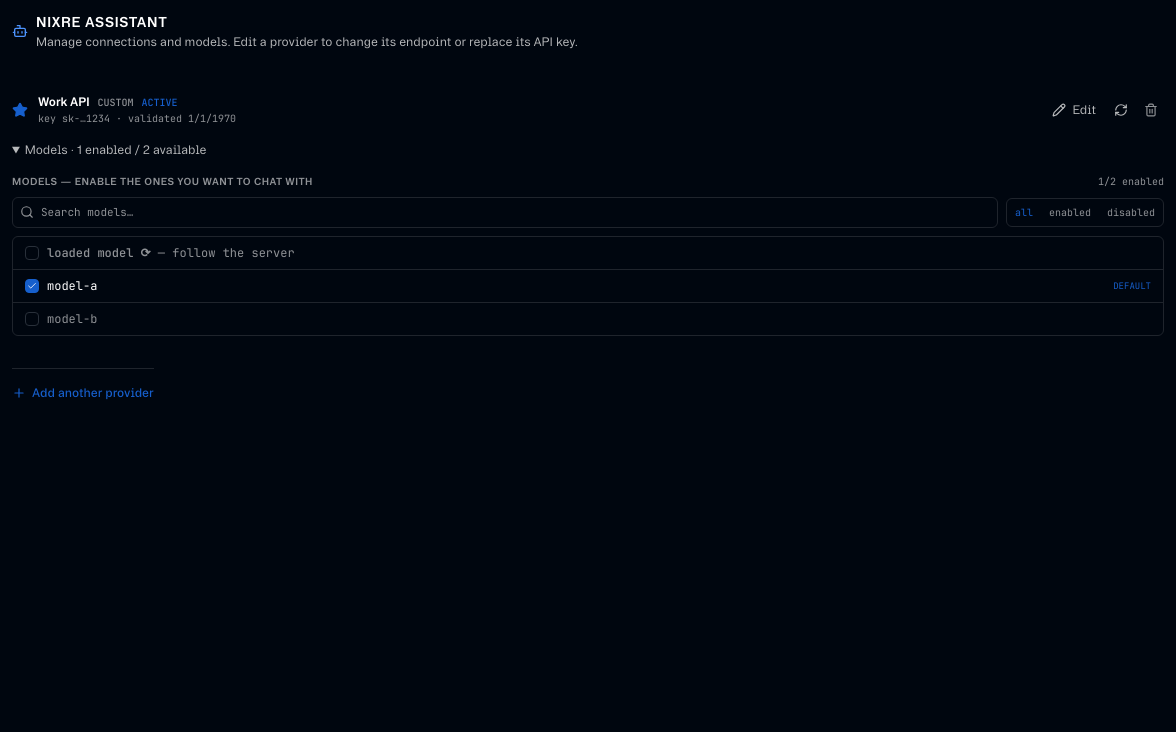
Editing providers › renames the existing provider without sending a key or recreating it
Click the button with aria-label "Edit Work API" at (1074, 110), box [1044, 96, 1104, 124]
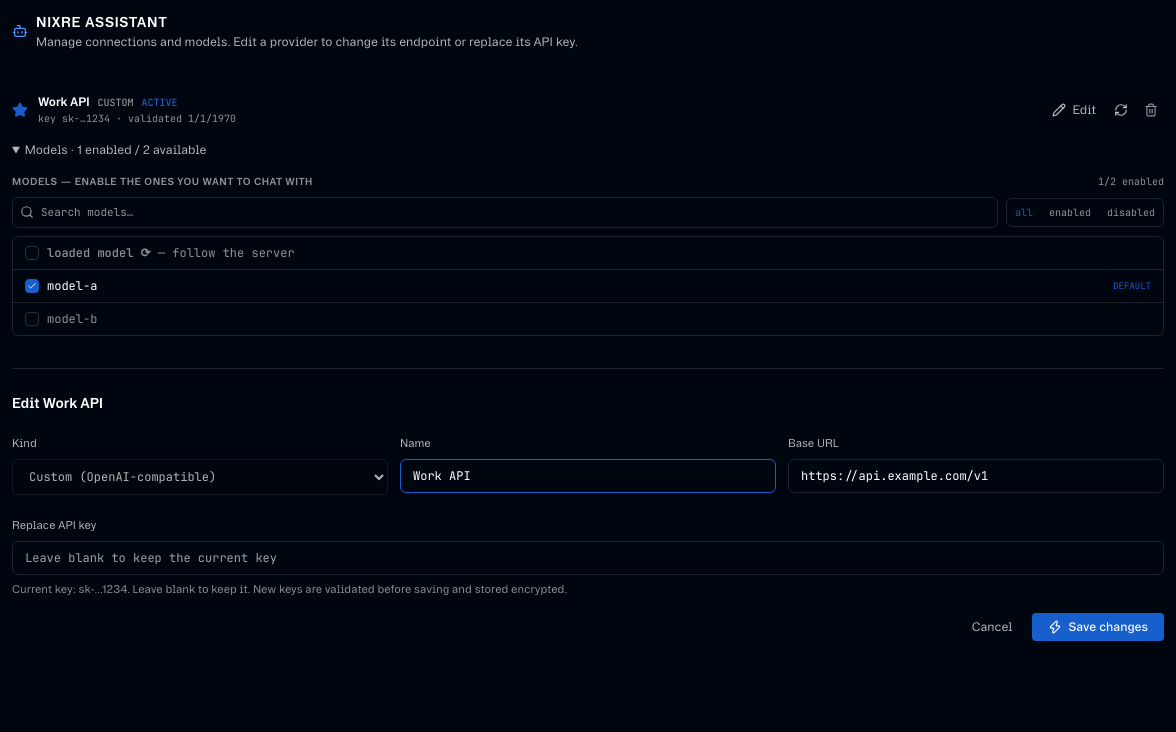
Now the password field labelled "Replace API key" is empty, box [12, 540, 1164, 574]
Replace the text in the field labelled "Name" with "Renamed API" at (588, 476), box [400, 458, 776, 492]
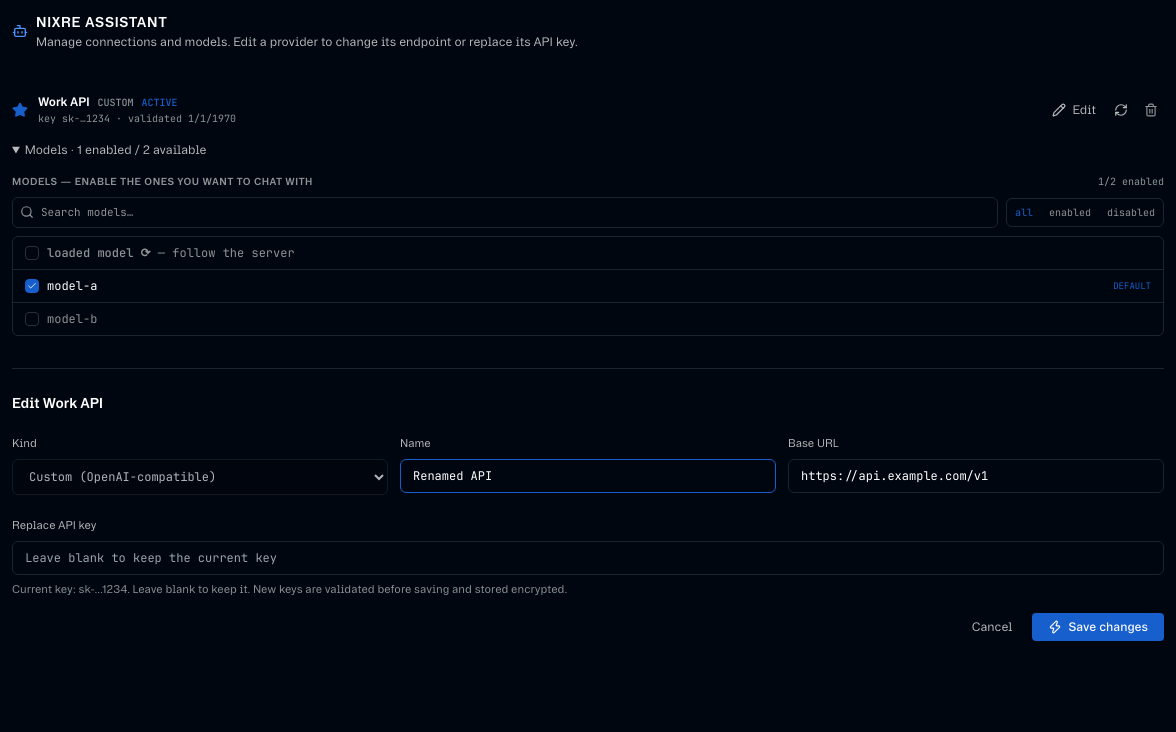
Click the button "Save changes" at (1098, 627), box [1032, 613, 1164, 641]
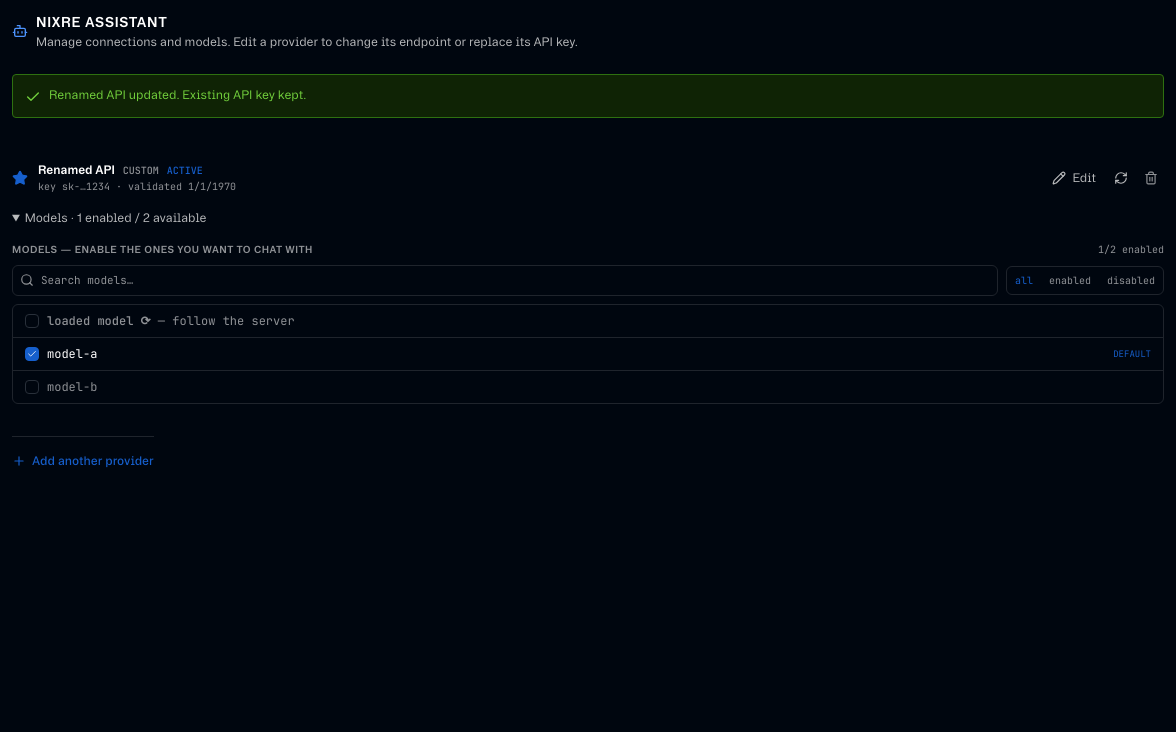
Now the message shows "Existing API key kept", box [49, 88, 306, 101]
